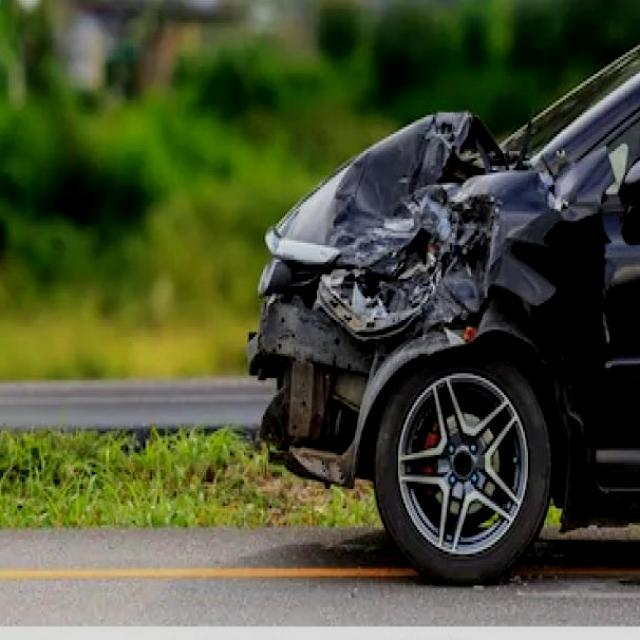accident: (218, 46, 640, 555)
